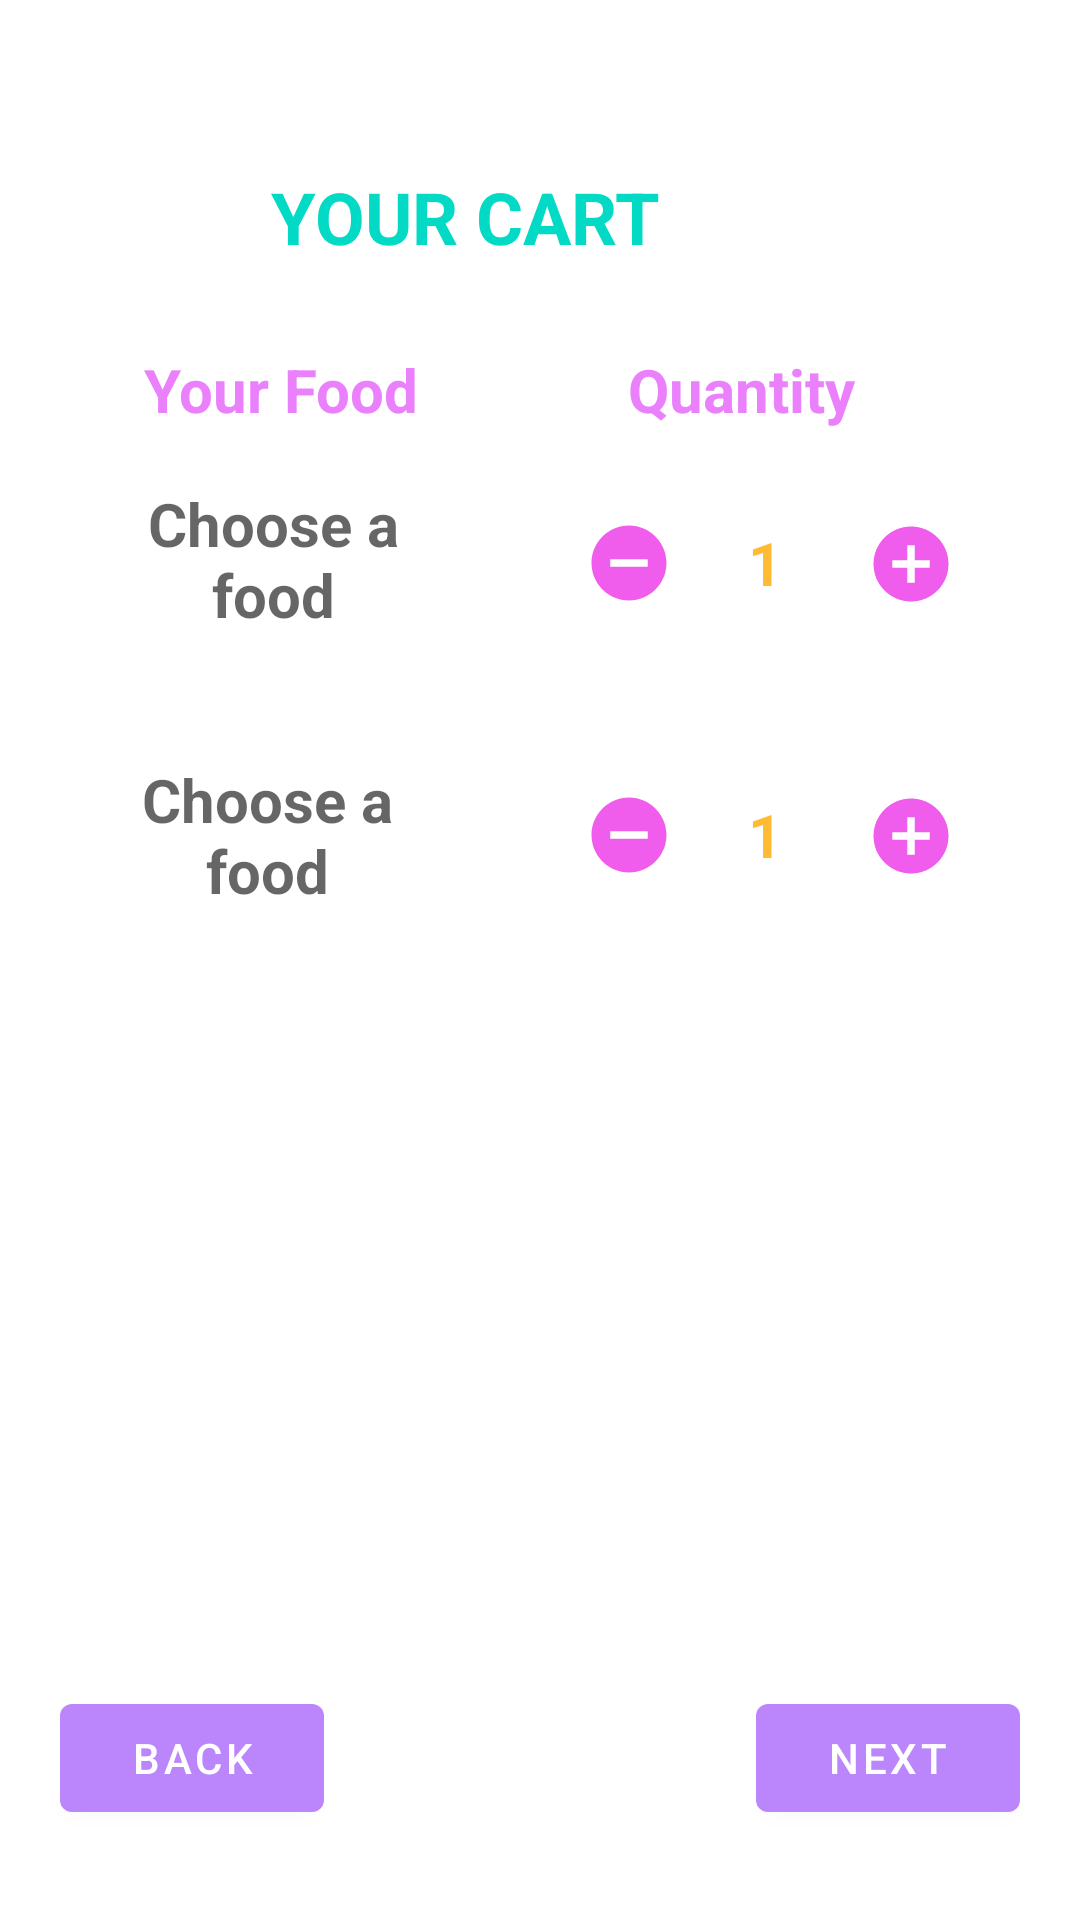

Screen size 1080*1920. Icon name, then its box in pixels as [x1,y1,x2,y2]:
add circle: [873,526,949,602], [873,798,949,874]
remove circle: [591,525,667,601], [591,797,667,873]
